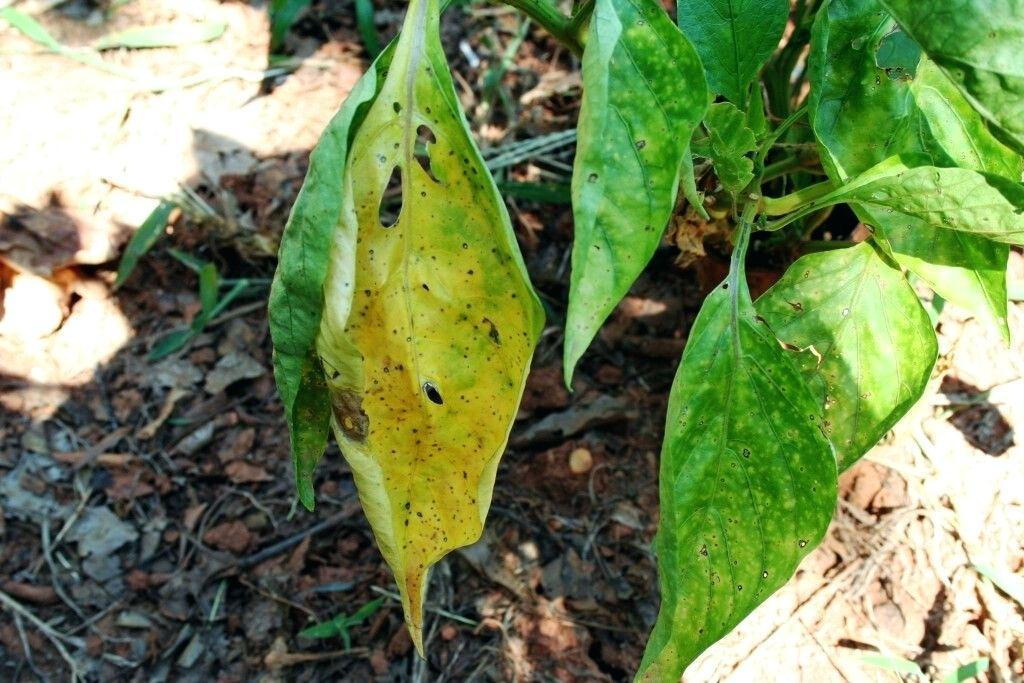Bell_pepper leaf: (322, 28, 554, 682), (612, 262, 840, 683), (548, 3, 711, 397), (257, 71, 356, 534), (836, 139, 1024, 257)
